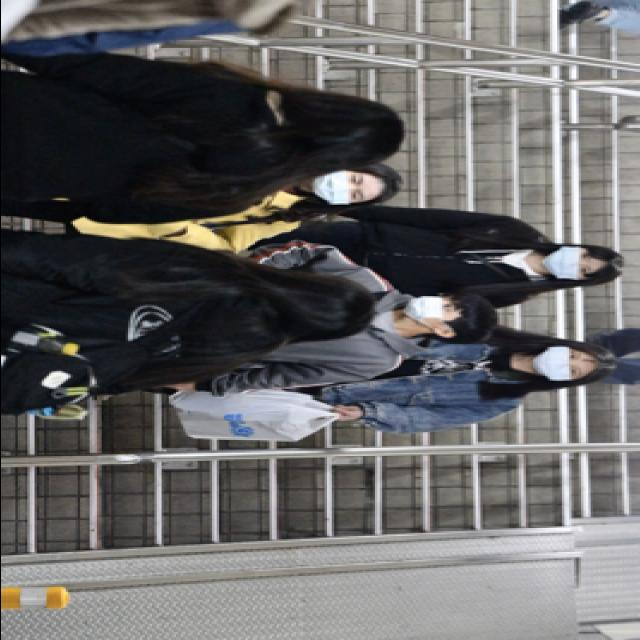mask: (312, 170, 369, 207), (542, 246, 600, 282), (535, 346, 587, 384), (402, 296, 462, 326)
